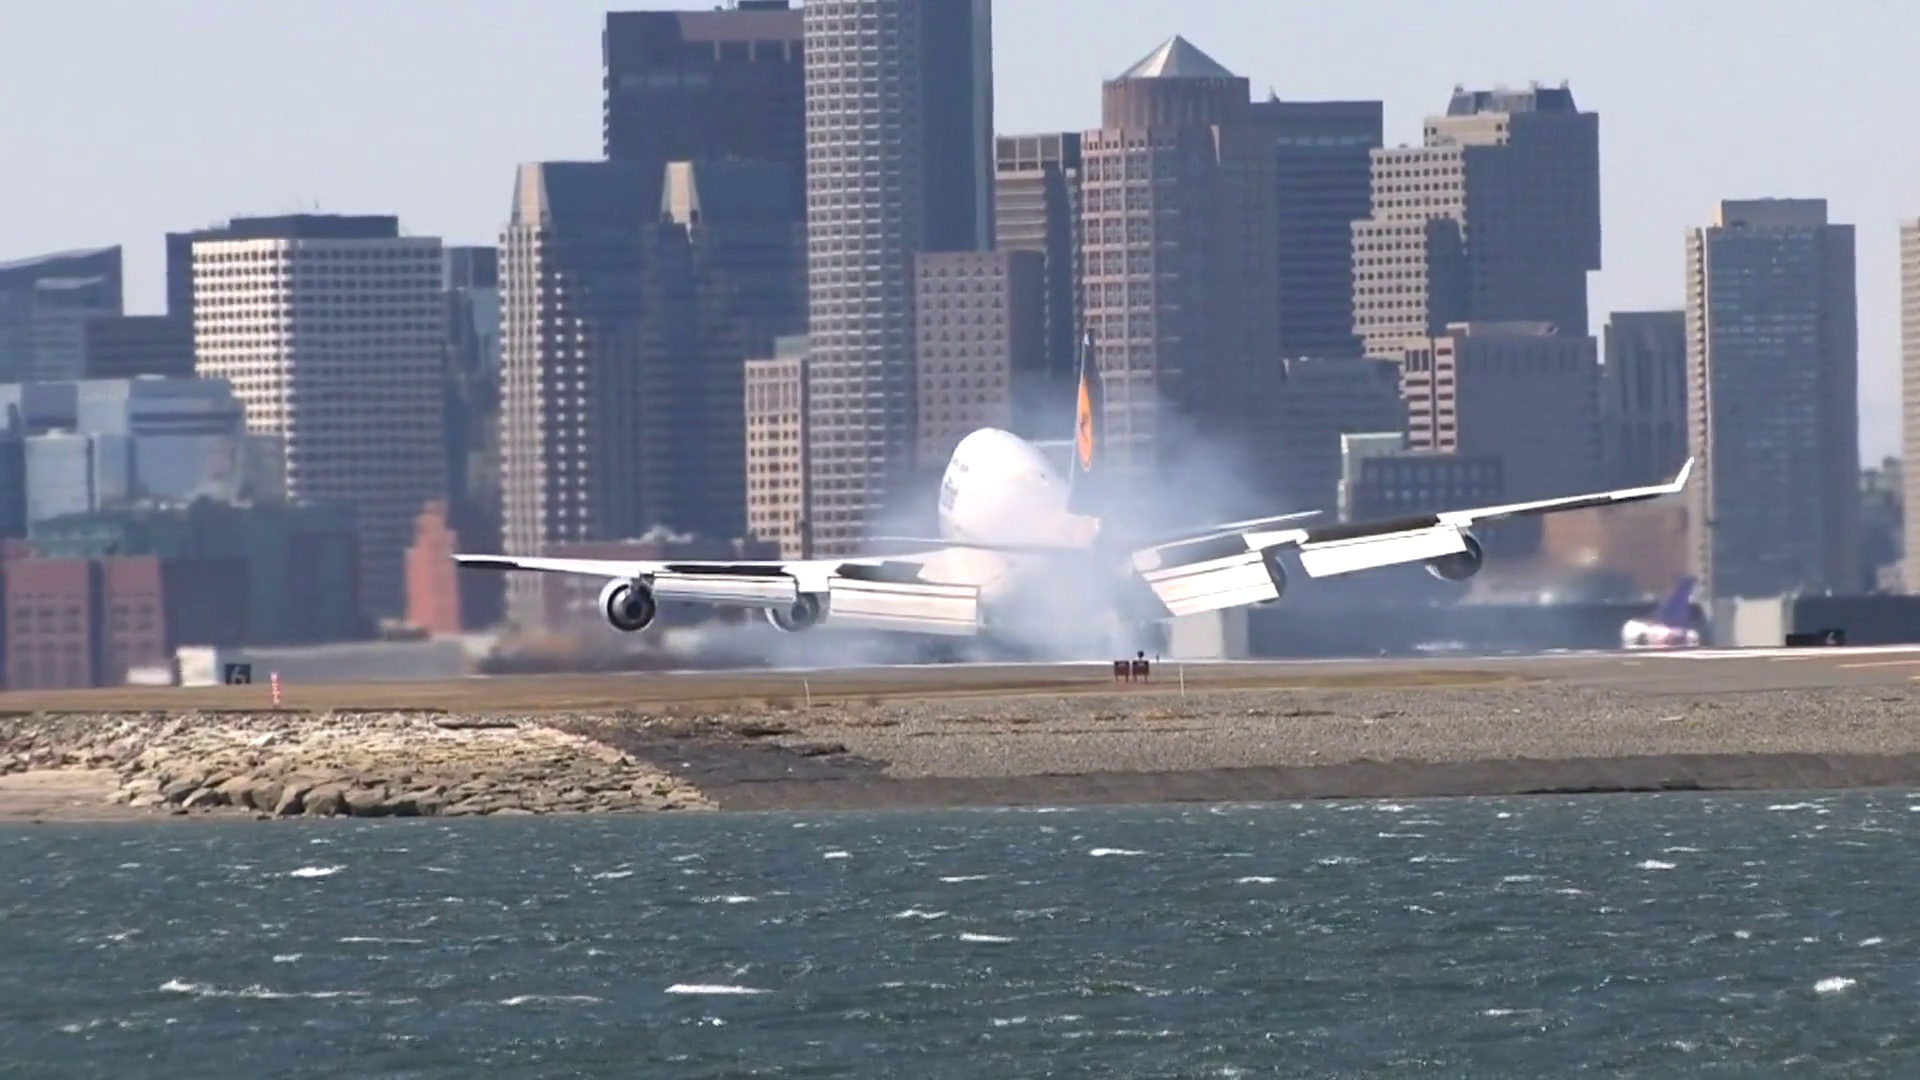plane: (448, 327, 1700, 644)
